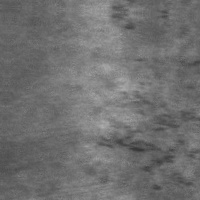rolled-in_scale: (95, 86, 199, 193), (110, 12, 143, 31)
